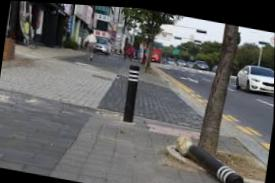Animal: (116, 62, 146, 124)
